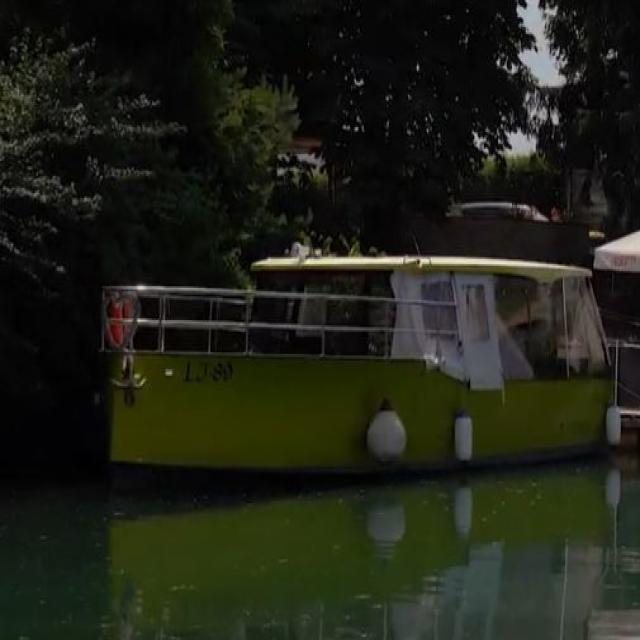boat: (98, 237, 617, 474)
